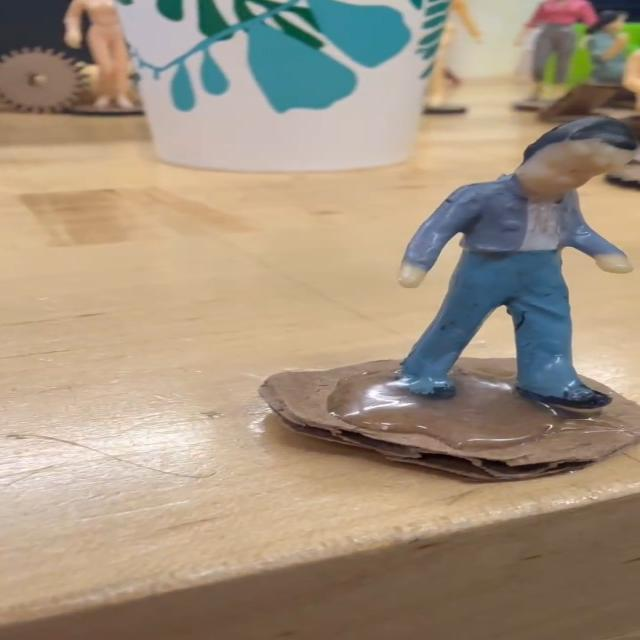Authorized: (351, 96, 640, 405)
